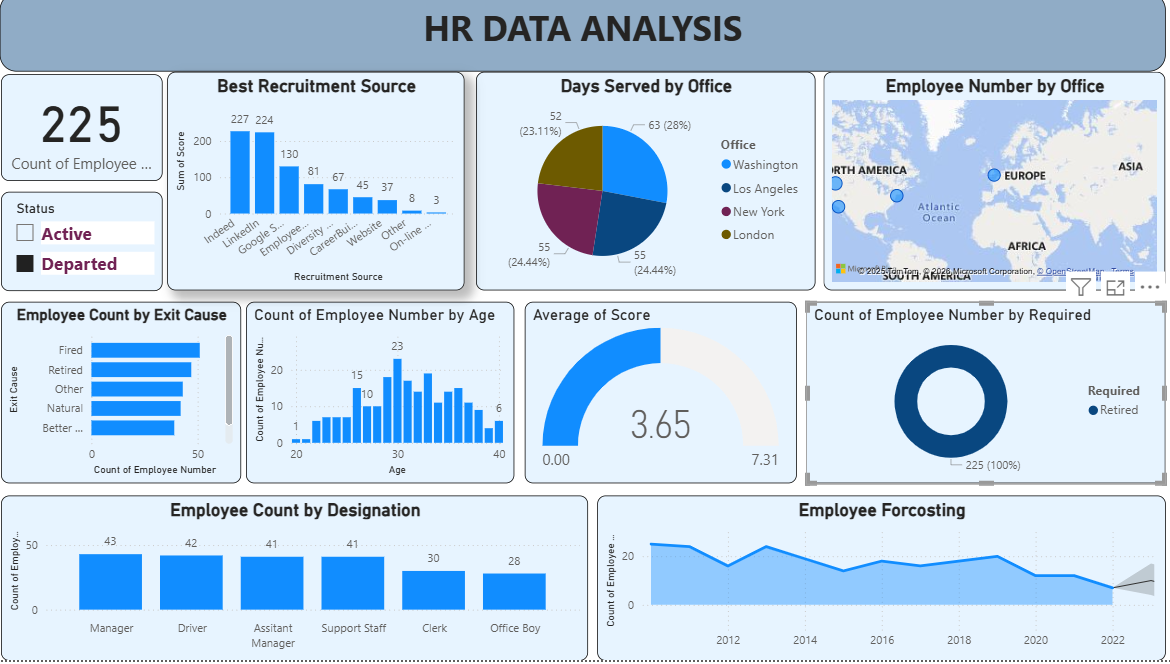

The page's visual inventory and layout, read from the dashboard file:
{"tool":"powerbi","page":{"name":"Page 1","canvas":[1280,720],"ordinal":0},"visuals":[{"type":"textbox","box":[9.4,0,1258.7,85],"z":0},{"type":"card","fields":{"Values":["CountNonNull(Sheet1.Employee Number)"]},"box":[11,87.8,174.3,115.3],"z":1000},{"type":"columnChart","title":"Best Recruitment Source","fields":{"Category":["Sheet1.Recruitment Source"],"Y":["Sum(Sheet1.Score)"]},"box":[190.7,85.1,321.1,236],"z":2000},{"type":"pieChart","title":"Days Served by Office","fields":{"Category":["Sheet1.Office"],"Y":["CountNonNull(Sheet1.Days Served)"]},"box":[522.8,85.1,366.4,236],"z":3000},{"type":"map","title":" Employee Number by Office","fields":{"Category":["Sheet1.Office"],"Size":["Count(Sheet1.Employee Number)"]},"box":[898.8,85.1,369.1,236],"z":4000},{"type":"gauge","fields":{"Y":["Avg(Sheet1.Score)"]},"box":[576.3,333.4,293.7,196.2],"z":5000},{"type":"clusteredColumnChart","fields":{"Y":["CountNonNull(Sheet1.Employee Number)"],"Category":["Sheet1.Age"]},"box":[275.8,333.4,289.5,196.2],"z":6000},{"type":"barChart","title":"Employee Count by Exit Cause","fields":{"Y":["CountNonNull(Sheet1.Employee Number)"],"Category":["Sheet1.Exit Cause"]},"box":[11,333.4,259.3,196.2],"z":7000},{"type":"clusteredColumnChart","title":" Employee Count  by Designation","fields":{"Category":["Sheet1.Designation"],"Y":["Count(Sheet1.Employee Number)"]},"box":[11,542,634,178.4],"z":8000},{"type":"lineChart","title":"Employee  Forcosting","fields":{"Category":["Sheet1.Hiring Date.Variation.Date Hierarchy.Year"],"Y":["Count(Sheet1.Employee Number)"]},"box":[654.5,542,613.4,178.4],"z":9000},{"type":"donutChart","fields":{"Y":["CountNonNull(Sheet1.Employee Number)"],"Series":["Sheet1.Required"]},"box":[879.6,333.4,388.3,196.2],"z":10000},{"type":"slicer","fields":{"Values":["Sheet1.Status"]},"box":[11,214.1,174.3,107],"z":11000}]}

Visuals, with their boxes in screenshot pixels (x1, y1, x2, y2), scaled from the page's 1280x720 canvas onto the 1170x664 screenshot:
textbox: box=[9, 0, 1159, 78]
card - CountNonNull(Sheet1.Employee Number): box=[10, 81, 169, 187]
"Best Recruitment Source" columnChart: box=[174, 78, 468, 296]
"Days Served by Office" pieChart: box=[478, 78, 813, 296]
" Employee Number by Office" map: box=[822, 78, 1159, 296]
gauge - Avg(Sheet1.Score): box=[527, 307, 795, 488]
clusteredColumnChart - CountNonNull(Sheet1.Employee Number) x Sheet1.Age: box=[252, 307, 517, 488]
"Employee Count by Exit Cause" barChart: box=[10, 307, 247, 488]
" Employee Count  by Designation" clusteredColumnChart: box=[10, 500, 590, 663]
"Employee  Forcosting" lineChart: box=[598, 500, 1159, 663]
donutChart - CountNonNull(Sheet1.Employee Number) x Sheet1.Required: box=[804, 307, 1159, 488]
slicer - Sheet1.Status: box=[10, 197, 169, 296]
